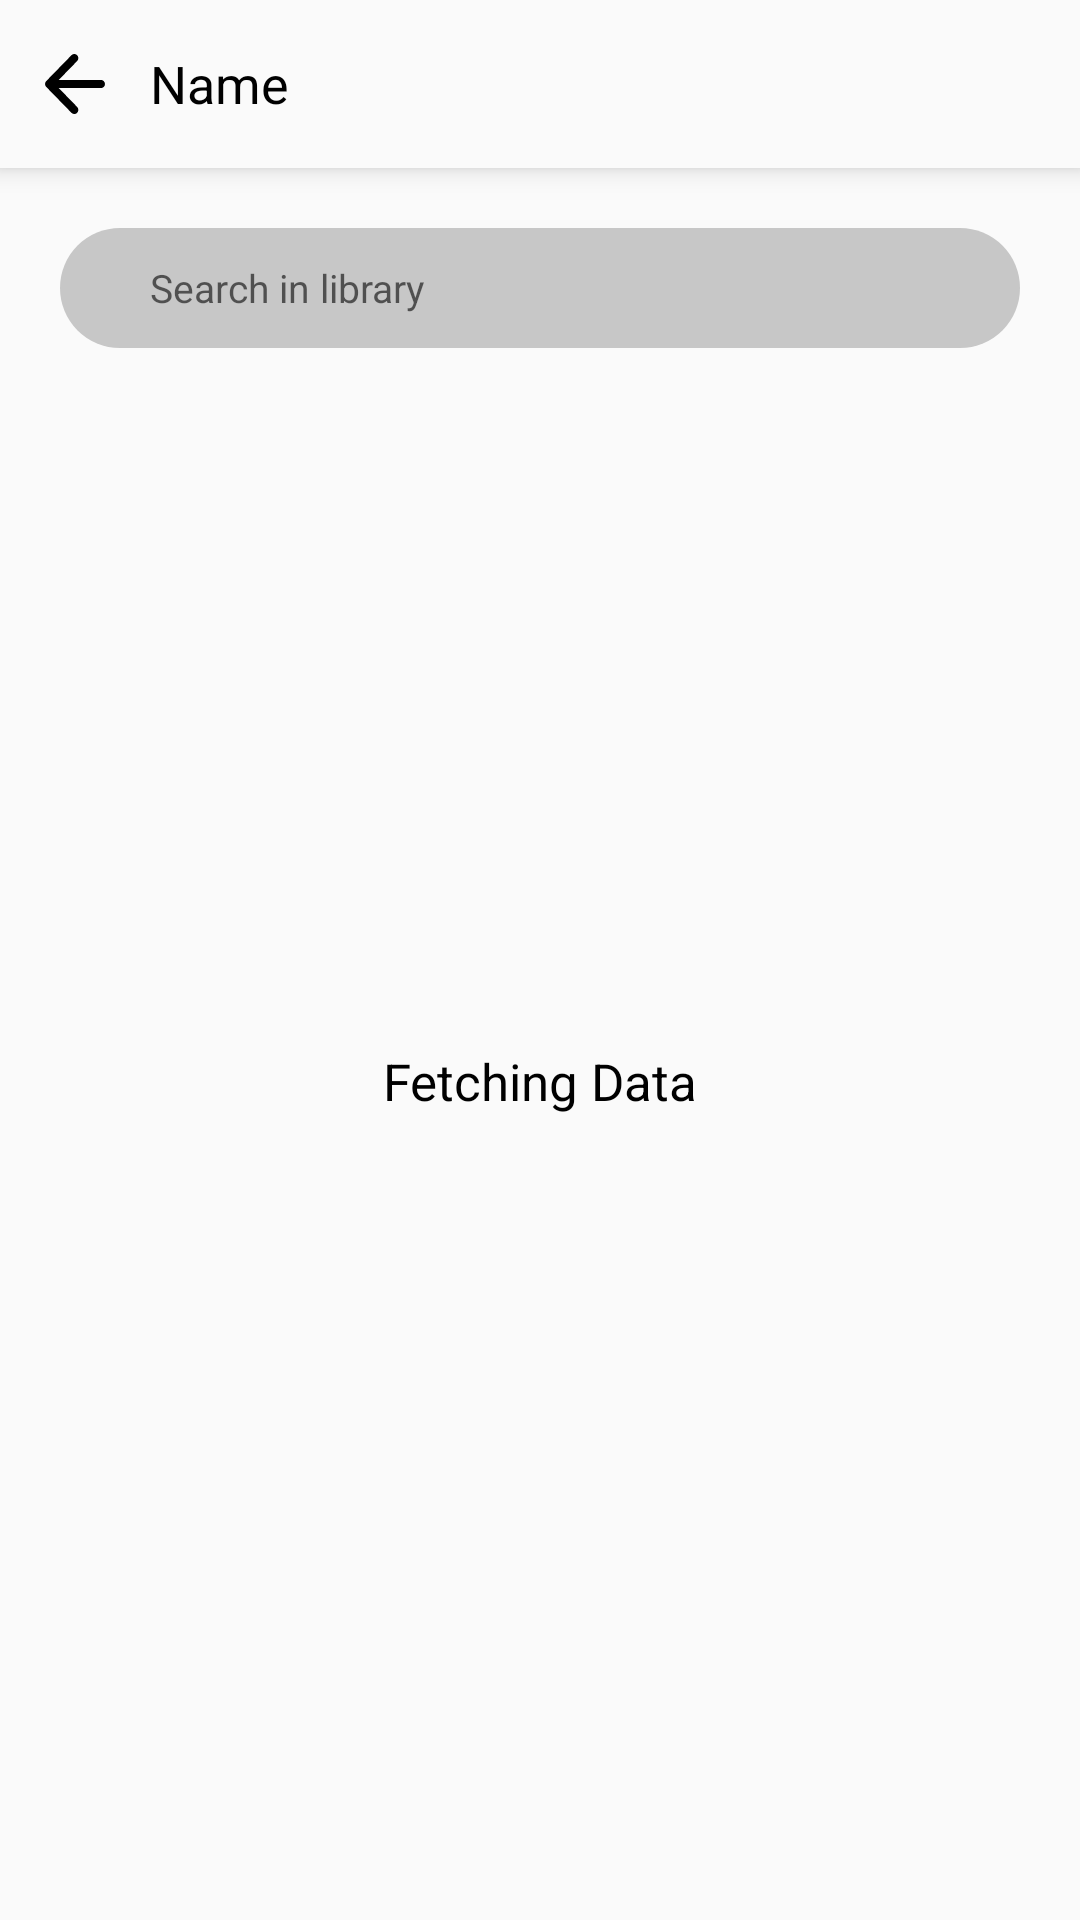

Icon bounding boxes for this 1080 x 1920 phone screenshot, format (x1, y1, x2, y2):
back: (45, 54, 105, 114)
